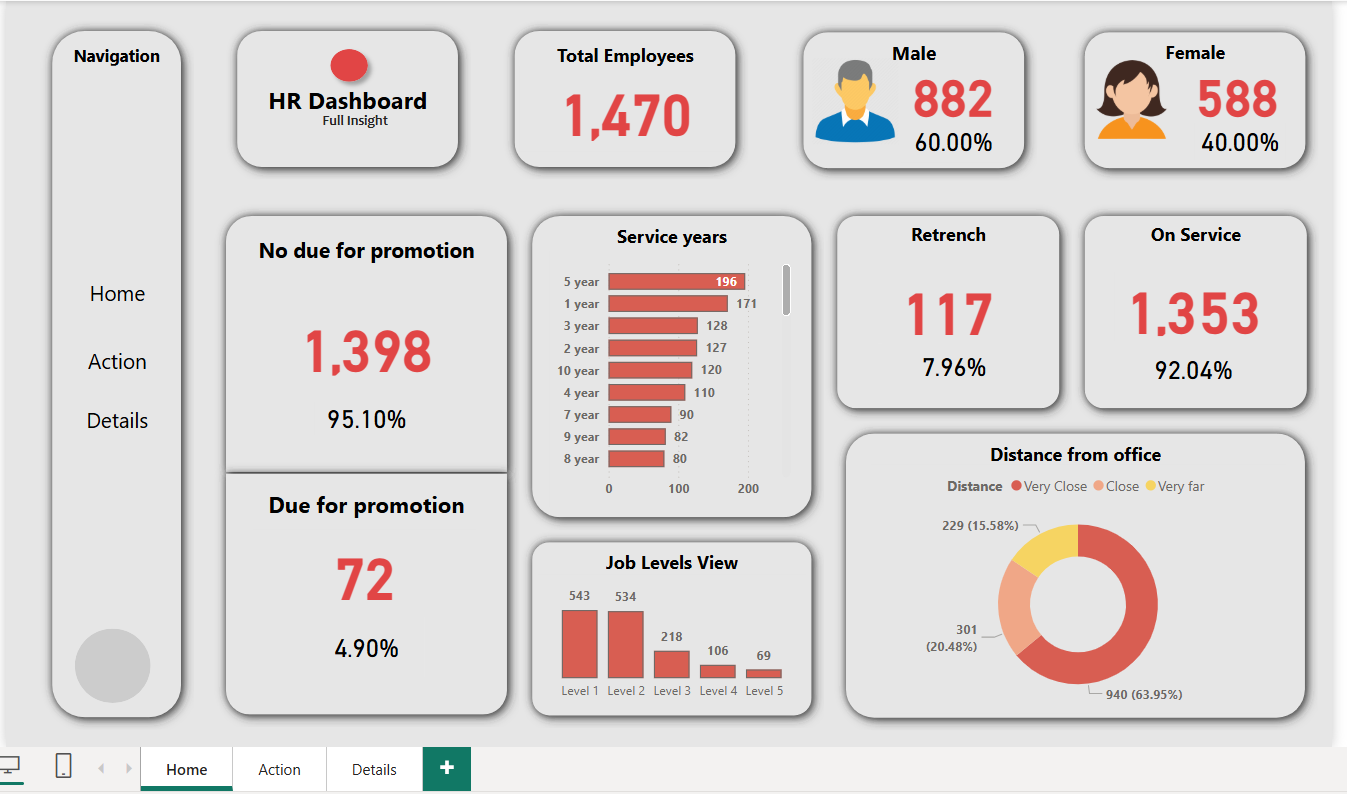

The dashboard page shown, as its layout file describes it:
{"tool":"powerbi","page":{"name":"Home","canvas":[1280,720],"ordinal":0},"visuals":[{"type":"shape","box":[32.8,17.1,148.4,686.5],"z":0},{"type":"shape","box":[211.1,16.9,237.6,155.6],"z":1000},{"type":"shape","box":[478.8,16.9,237.6,155.6],"z":2000},{"type":"shape","box":[1028.7,18.1,237.6,155.6],"z":3000},{"type":"shape","box":[757.4,18.1,237.6,155.6],"z":4000},{"type":"shape","box":[303.9,37.4,54.3,49.4],"z":5000},{"type":"card","fields":{"Values":["Measures (2).total emp"]},"box":[495.7,62.7,205,82],"z":6000},{"type":"card","fields":{"Values":["Measures (2).Male"]},"box":[865,57.5,98.8,61.2],"z":7000},{"type":"card","fields":{"Values":["Measures (2).% Male"]},"box":[863.8,116.2,101.2,40],"z":8000},{"type":"card","fields":{"Values":["Measures (2).Female"]},"box":[1138.8,58.8,97.5,58.8],"z":9000},{"type":"card","fields":{"Values":["Measures (2).% Female"]},"box":[1147.5,118.8,87.5,35],"z":10000},{"type":"image","box":[773.1,47,92.9,98.9],"z":11000},{"type":"image","box":[1043.2,48.2,85.6,94.1],"z":12000},{"type":"shape","box":[200.2,195.4,295.5,271.4],"z":13000},{"type":"card","fields":{"Values":["Measures (2).No due"]},"box":[276.2,296.7,143.5,69.9],"z":14000},{"type":"card","fields":{"Values":["Measures (2).% no due"]},"box":[297.9,387.1,100.1,31.4],"z":15000},{"type":"shape","box":[200.2,443.8,295.5,256.9],"z":16000},{"type":"card","fields":{"Values":["Measures (2).% due"]},"box":[291.9,594.6,112.2,57.9],"z":17000},{"type":"card","fields":{"Values":["Measures (2).due for"]},"box":[238.8,510.2,214.7,82],"z":18000},{"type":"shape","box":[496.2,195,293.8,315],"z":19000},{"type":"barChart","fields":{"Category":["HR-Employee-Attrition.Service year"],"Y":["Measures (2).total emp"]},"box":[525,241.2,237.5,247.5],"z":20000},{"type":"shape","box":[496.2,510,293.8,191.2],"z":21000},{"type":"columnChart","fields":{"Category":["HR-Employee-Attrition.Job_Level"],"Y":["Measures (2).total emp"]},"box":[513.8,553.8,258.8,130],"z":22000},{"type":"shape","box":[798.8,405,467.5,298.8],"z":23000},{"type":"donutChart","fields":{"Category":["HR-Employee-Attrition.Distance"],"Y":["Measures (2).total emp"]},"box":[835,447.5,400,240],"z":24000},{"type":"shape","box":[790,195,238.8,210],"z":25000},{"type":"shape","box":[1028.8,195,238.8,210],"z":26000},{"type":"card","fields":{"Values":["Measures (2).On service"]},"box":[1070,261.2,152.5,66.2],"z":27000},{"type":"card","fields":{"Values":["Measures (2).Retreanch"]},"box":[841.2,260,136.2,70],"z":28000},{"type":"card","fields":{"Values":["Measures (2).% On Service"]},"box":[1077.5,330,137.5,50],"z":29000},{"type":"card","fields":{"Values":["Measures (2).% Retreanch"]},"box":[846.2,328.8,138.8,48.8],"z":30000},{"type":"shape","box":[66.3,605.4,73.6,72.4],"z":31000},{"type":"actionButton","box":[66.3,261.7,82,38.6],"z":32000},{"type":"actionButton","box":[66.3,326.8,82,38.6],"z":33000},{"type":"actionButton","box":[66.3,383.5,82,38.6],"z":34000},{"type":"textbox","box":[300,100,115.7,42.3],"z":35000}]}

Visuals, with their boxes on the page's 1280x720 design canvas (x1, y1, x2, y2). These are canvas units, not pixel positions in the 1347x794 screenshot, which may show the page scaled, cropped or inside an application window:
shape: {"x1": 33, "y1": 17, "x2": 181, "y2": 704}
shape: {"x1": 211, "y1": 17, "x2": 449, "y2": 172}
shape: {"x1": 479, "y1": 17, "x2": 716, "y2": 172}
shape: {"x1": 1029, "y1": 18, "x2": 1266, "y2": 174}
shape: {"x1": 757, "y1": 18, "x2": 995, "y2": 174}
shape: {"x1": 304, "y1": 37, "x2": 358, "y2": 87}
card - Measures (2).total emp: {"x1": 496, "y1": 63, "x2": 701, "y2": 145}
card - Measures (2).Male: {"x1": 865, "y1": 58, "x2": 964, "y2": 119}
card - Measures (2).% Male: {"x1": 864, "y1": 116, "x2": 965, "y2": 156}
card - Measures (2).Female: {"x1": 1139, "y1": 59, "x2": 1236, "y2": 118}
card - Measures (2).% Female: {"x1": 1148, "y1": 119, "x2": 1235, "y2": 154}
image: {"x1": 773, "y1": 47, "x2": 866, "y2": 146}
image: {"x1": 1043, "y1": 48, "x2": 1129, "y2": 142}
shape: {"x1": 200, "y1": 195, "x2": 496, "y2": 467}
card - Measures (2).No due: {"x1": 276, "y1": 297, "x2": 420, "y2": 367}
card - Measures (2).% no due: {"x1": 298, "y1": 387, "x2": 398, "y2": 418}
shape: {"x1": 200, "y1": 444, "x2": 496, "y2": 701}
card - Measures (2).% due: {"x1": 292, "y1": 595, "x2": 404, "y2": 652}
card - Measures (2).due for: {"x1": 239, "y1": 510, "x2": 454, "y2": 592}
shape: {"x1": 496, "y1": 195, "x2": 790, "y2": 510}
barChart - HR-Employee-Attrition.Service year x Measures (2).total emp: {"x1": 525, "y1": 241, "x2": 762, "y2": 489}
shape: {"x1": 496, "y1": 510, "x2": 790, "y2": 701}
columnChart - HR-Employee-Attrition.Job_Level x Measures (2).total emp: {"x1": 514, "y1": 554, "x2": 773, "y2": 684}
shape: {"x1": 799, "y1": 405, "x2": 1266, "y2": 704}
donutChart - HR-Employee-Attrition.Distance x Measures (2).total emp: {"x1": 835, "y1": 448, "x2": 1235, "y2": 688}
shape: {"x1": 790, "y1": 195, "x2": 1029, "y2": 405}
shape: {"x1": 1029, "y1": 195, "x2": 1268, "y2": 405}
card - Measures (2).On service: {"x1": 1070, "y1": 261, "x2": 1222, "y2": 327}
card - Measures (2).Retreanch: {"x1": 841, "y1": 260, "x2": 977, "y2": 330}
card - Measures (2).% On Service: {"x1": 1078, "y1": 330, "x2": 1215, "y2": 380}
card - Measures (2).% Retreanch: {"x1": 846, "y1": 329, "x2": 985, "y2": 378}
shape: {"x1": 66, "y1": 605, "x2": 140, "y2": 678}
actionButton: {"x1": 66, "y1": 262, "x2": 148, "y2": 300}
actionButton: {"x1": 66, "y1": 327, "x2": 148, "y2": 365}
actionButton: {"x1": 66, "y1": 384, "x2": 148, "y2": 422}
textbox: {"x1": 300, "y1": 100, "x2": 416, "y2": 142}
